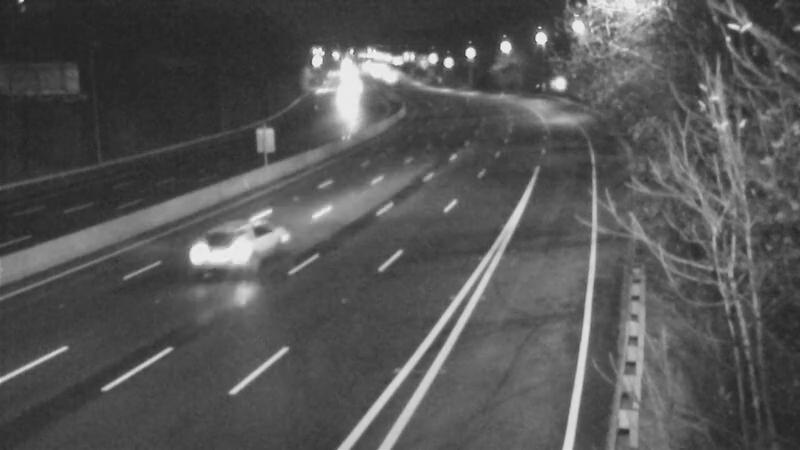vehicle: (204, 205, 284, 285)
